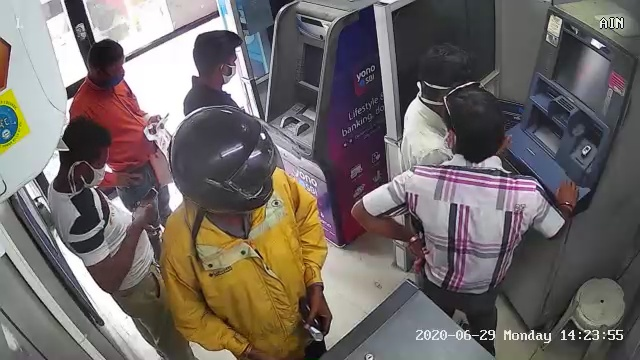helmet: (168, 107, 288, 212)
